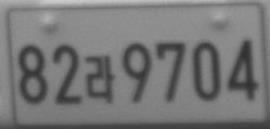0: (192, 40, 220, 100)
2: (52, 44, 82, 104)
4: (227, 38, 260, 100)
7: (157, 42, 185, 102)
8: (17, 44, 47, 104)
9: (122, 42, 151, 102)
라: (85, 54, 115, 103)
